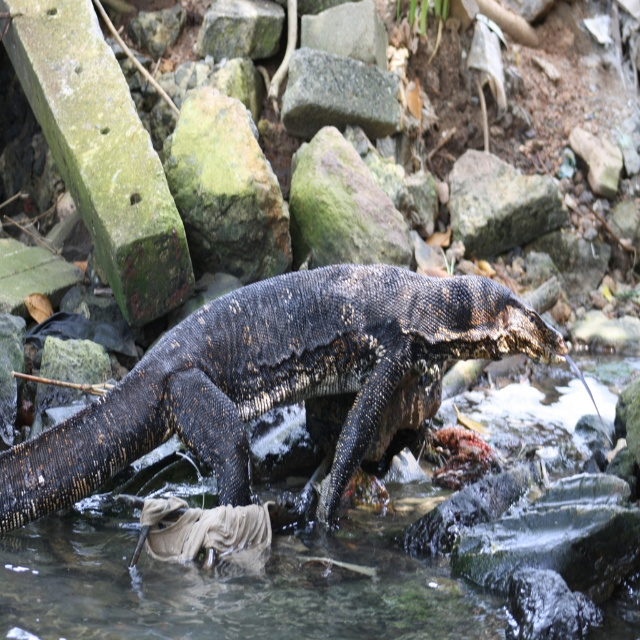Lizard: (0, 262, 610, 532)
